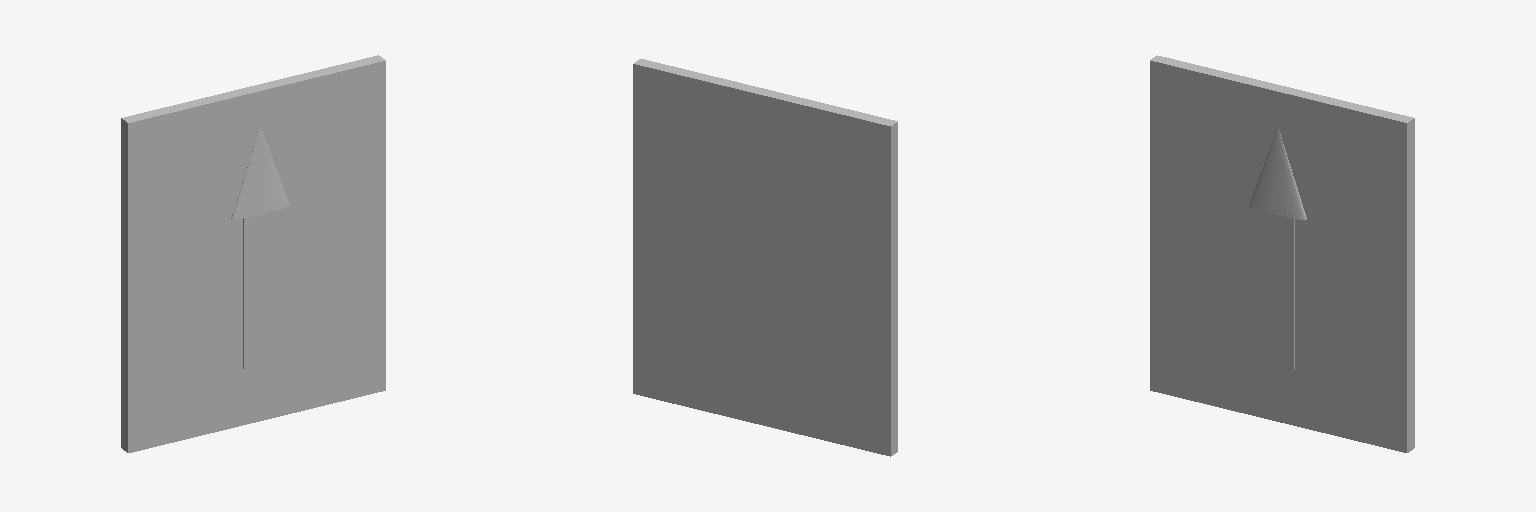
File: arrow_button.obj
The picture shows the model from 3 angles: view 1: azimuth 30°, elevation 25°; view 2: azimuth 150°, elevation 25°; view 3: azimuth 330°, elevation 25°; orthographic projection.
Visible parts, largest first — view 1: Cube_Cube.001; view 2: Cube_Cube.001; view 3: Cube_Cube.001.
Boxes of the visible parts, box(x1,y1,x2,y2) form: Cube_Cube.001: box(121, 55, 385, 452); Cube_Cube.001: box(633, 59, 897, 456); Cube_Cube.001: box(1150, 55, 1414, 452).
Bounding box in the file's own units: 1.6 × 1.96 × 0.127.